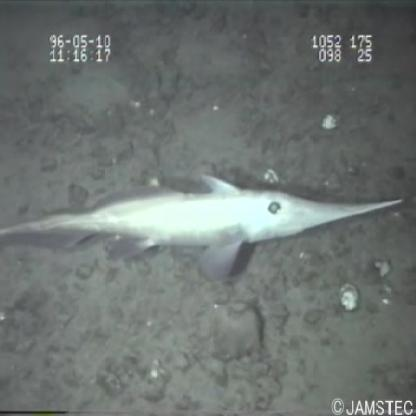Bio: (1, 168, 405, 288)
